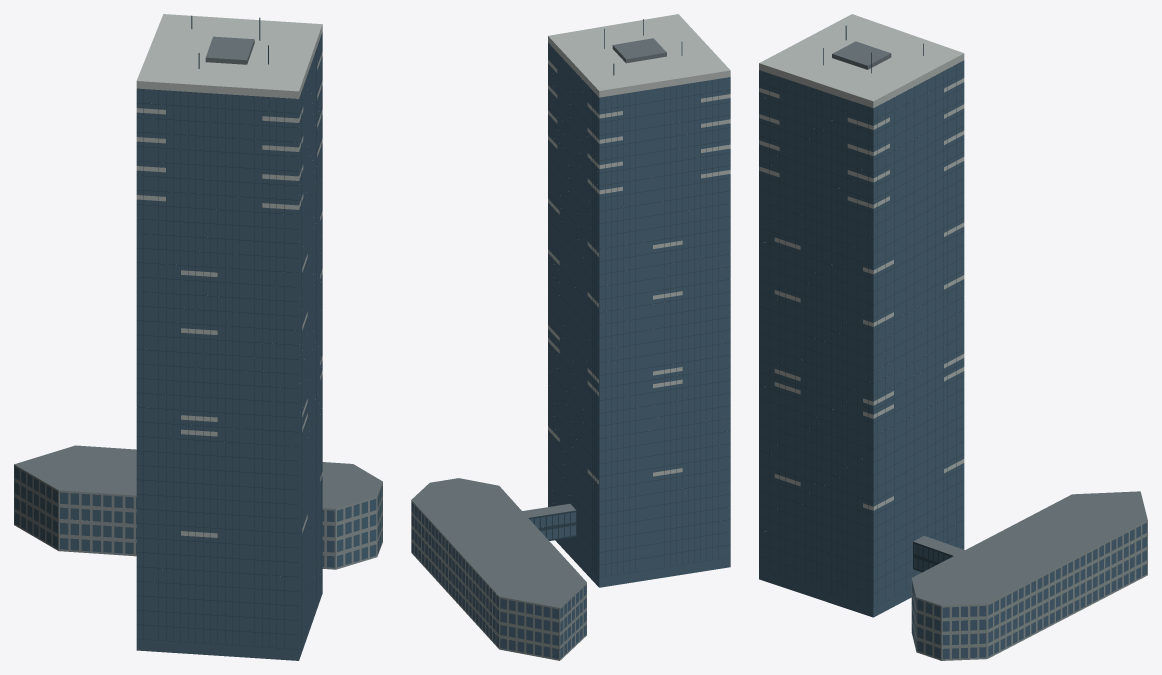
File: tour-du-midi-near.glb
3 views of the same model, side by side, from view 1: azimuth 30°, elevation 25°; view 2: azimuth 150°, elevation 25°; view 3: azimuth 270°, elevation 25° (orthographic). The views are drawn at different scales.
Visible parts, largest first — view 1: tour-du-midi-0-glass, tour-du-midi-0-mullion, tour-du-midi-0-infill, tour-du-midi-0-roof, tour-du-midi-0-stone; view 2: tour-du-midi-0-glass, tour-du-midi-0-mullion, tour-du-midi-0-roof, tour-du-midi-0-infill, tour-du-midi-0-stone; view 3: tour-du-midi-0-glass, tour-du-midi-0-mullion, tour-du-midi-0-roof, tour-du-midi-0-infill, tour-du-midi-0-stone.
Boxes of the visible parts, box(x1,y1,x2,y2) form: tour-du-midi-0-glass: box(14, 32, 382, 660); tour-du-midi-0-mullion: box(136, 15, 322, 649); tour-du-midi-0-infill: box(136, 14, 322, 537); tour-du-midi-0-roof: box(14, 36, 382, 508); tour-du-midi-0-stone: box(14, 464, 382, 569); tour-du-midi-0-glass: box(411, 43, 730, 658); tour-du-midi-0-mullion: box(528, 19, 730, 577); tour-du-midi-0-roof: box(411, 38, 666, 607); tour-du-midi-0-infill: box(548, 14, 730, 484); tour-du-midi-0-stone: box(411, 500, 586, 660); tour-du-midi-0-glass: box(759, 60, 1146, 659); tour-du-midi-0-mullion: box(759, 25, 964, 607); tour-du-midi-0-roof: box(832, 41, 1147, 605); tour-du-midi-0-infill: box(759, 14, 964, 510); tour-du-midi-0-stone: box(911, 520, 1147, 660).
Bounding box in the file's own units: 81.51 × 156 × 102.
